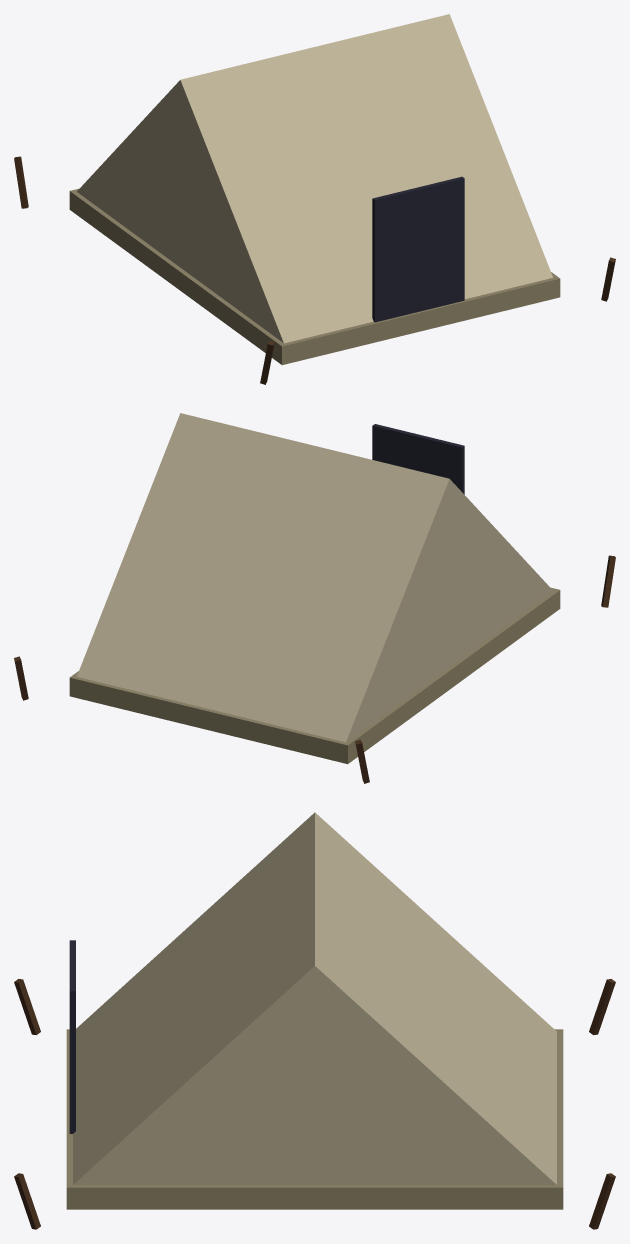
Rendered from sanseong_tent.glb.
The picture shows the model from 3 angles, top to bottom: view 1: azimuth 30°, elevation 25°; view 2: azimuth 150°, elevation 25°; view 3: azimuth 270°, elevation 25°; orthographic projection. The views are drawn at different scales.
Parts seen in each view (by area): view 1: sanseong_tent; view 2: sanseong_tent; view 3: sanseong_tent.
Boxes of the visible parts, <box> form: sanseong_tent: <box>14,14,615,384</box>; sanseong_tent: <box>14,413,615,783</box>; sanseong_tent: <box>14,812,615,1229</box>.
Bounding box in the file's own units: 3.88 × 2.21 × 4.97.
